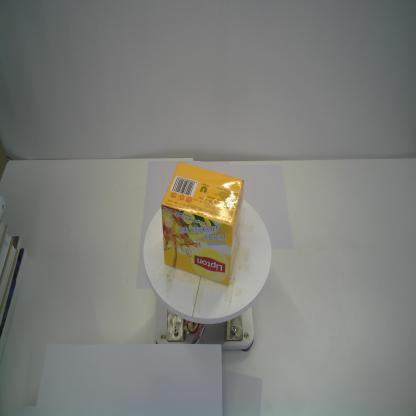Instant Drink: (160, 161, 245, 286)
